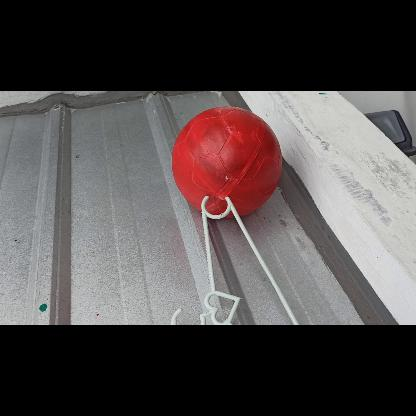red_ball: (170, 104, 282, 216)
